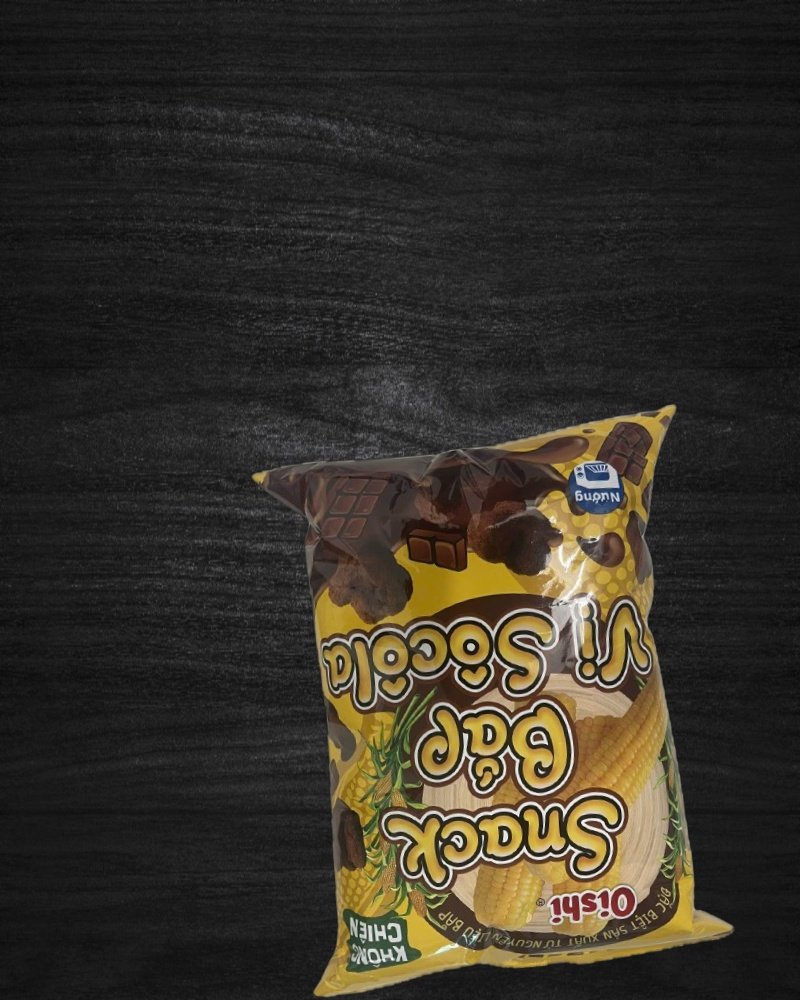Snack socola: (251, 406, 738, 998)
